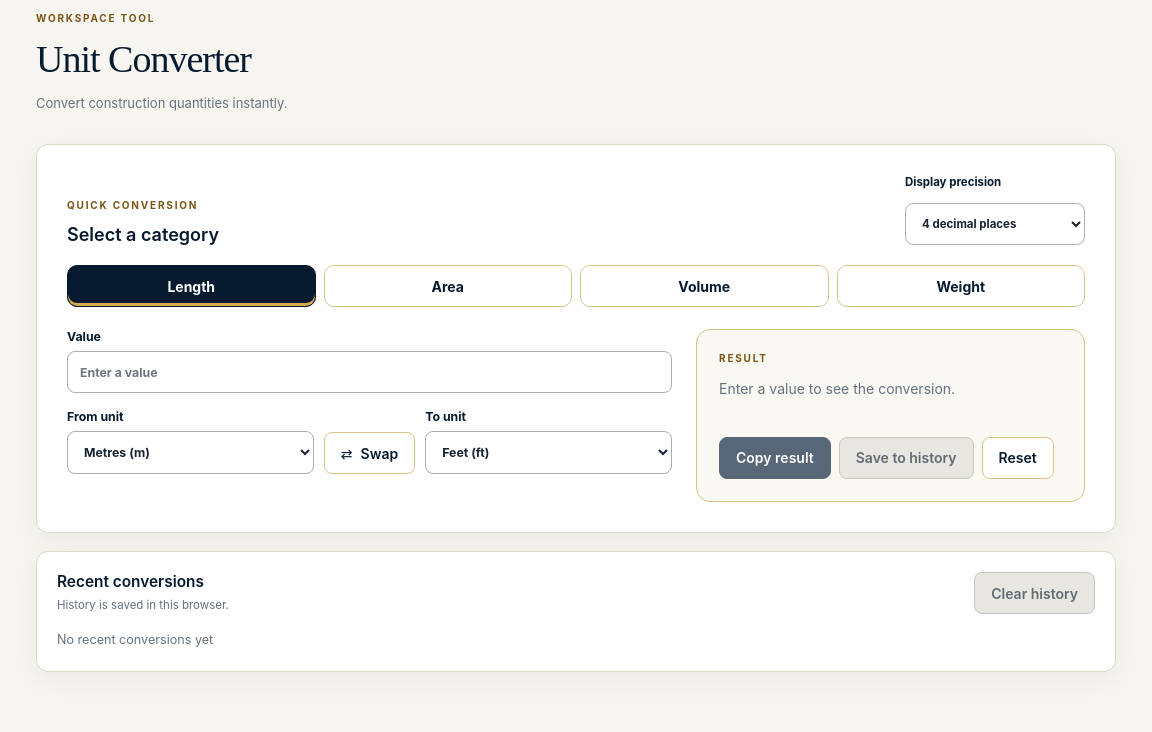
Test: Unit Converter page › swaps a compound result without using its rounded display text
The image size is (1152, 732).
Select "Feet + Inches (ft + in)" in the dropdown labelled "To unit" at (549, 453), box [425,431,672,474]
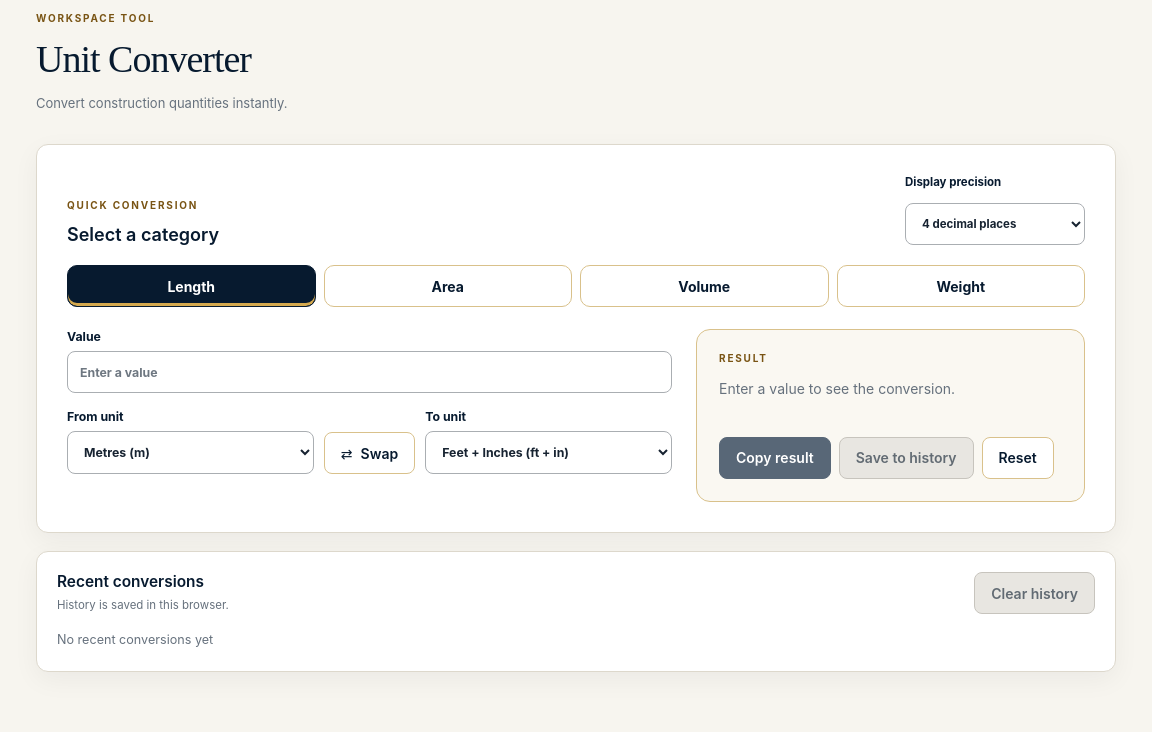
Type "1.23456789" into the field labelled "Value" at (370, 372), box [67,351,672,393]
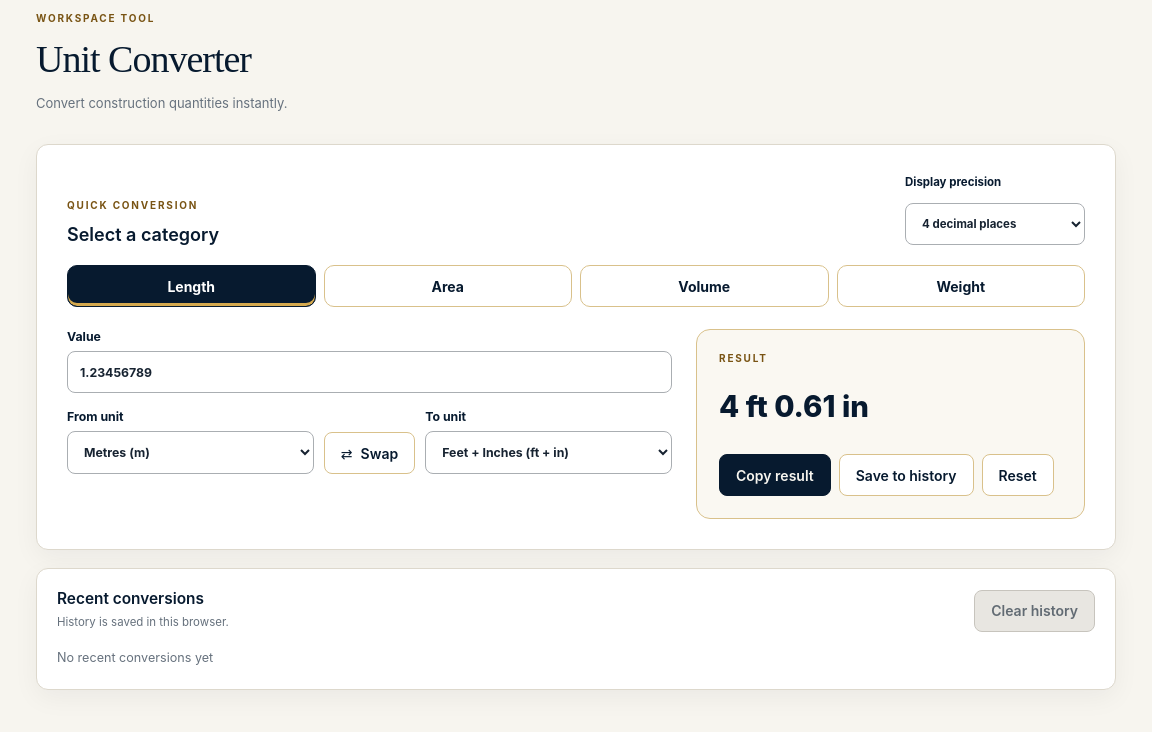
expect the text named "Converted result" shows "ft": met, box [719,389,869,424]
Click the button with aria-label "Swap units" at (369, 453), box [324,432,415,474]
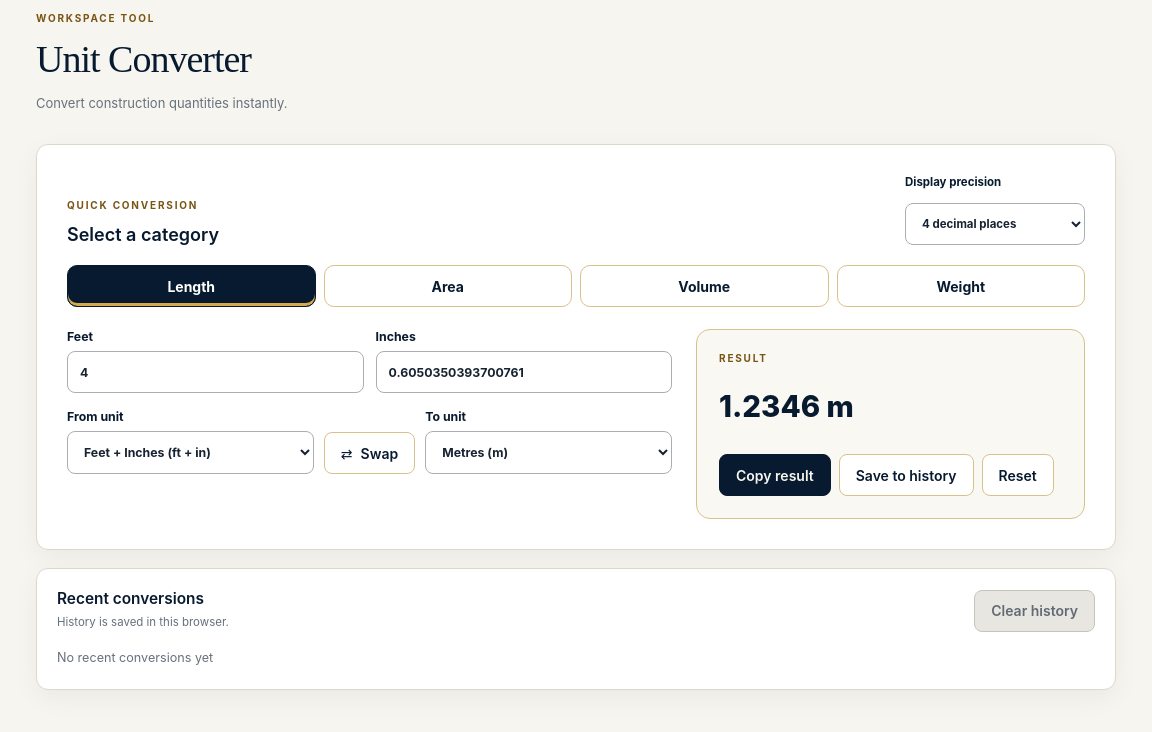
expect the field labelled "Feet" is shown: met, box [67,351,364,393]
expect the text named "Converted result" reads "1.2346 m": met, box [719,389,854,424]
Click the button with aria-label "Swap units" at (369, 453), box [324,432,415,474]
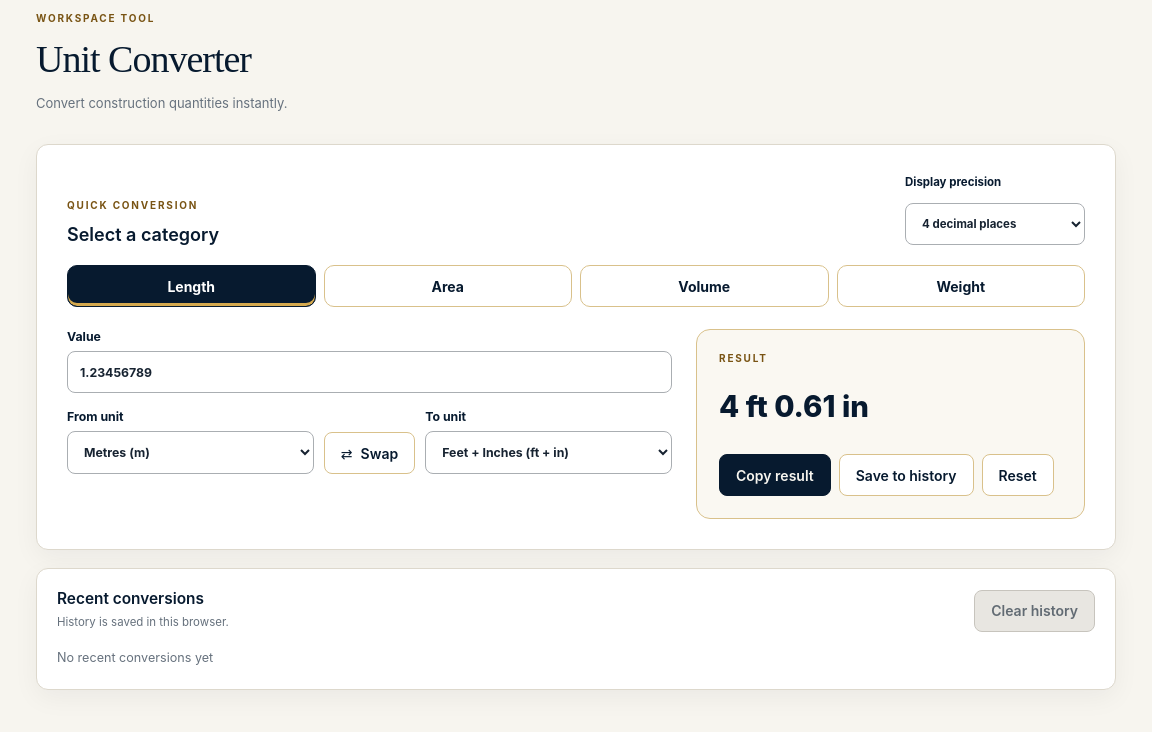
expect the text named "Converted result" shows "ft": met, box [719,389,869,424]
